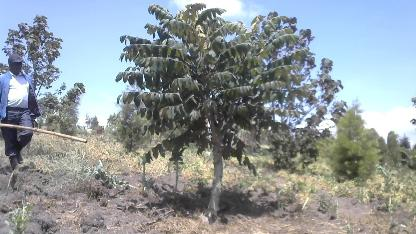person: (0, 51, 43, 165)
tree: (115, 2, 347, 216)
